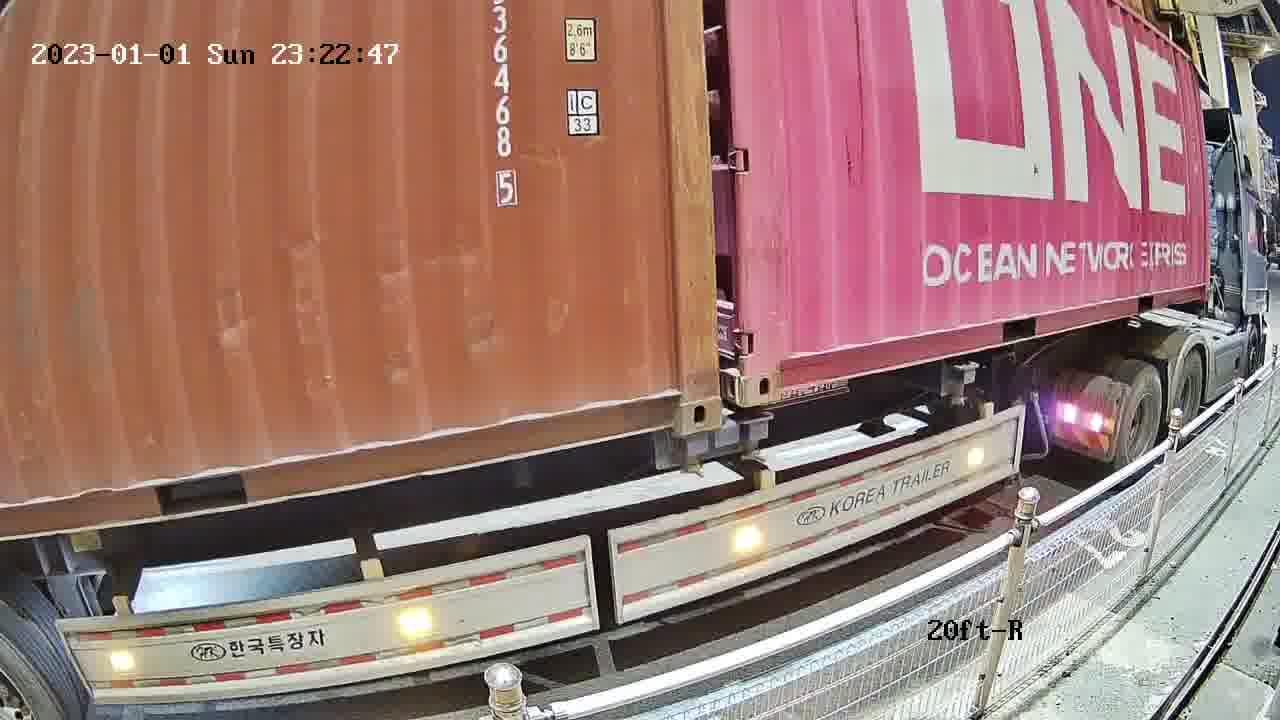Cone: (736, 414, 772, 464), (678, 432, 710, 478)
Hole_L: (743, 328, 808, 406)
Hole_R: (636, 353, 720, 444)
Tire: (1117, 367, 1162, 474), (1170, 352, 1203, 437)
